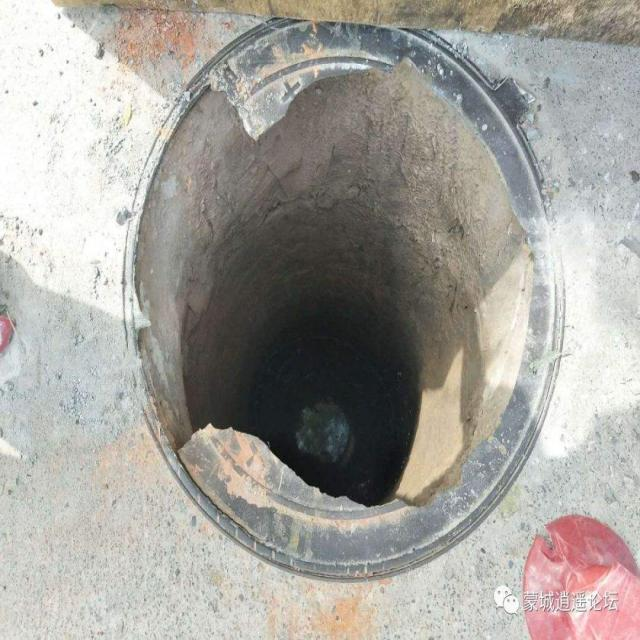manhole-cover: (109, 60, 578, 576)
